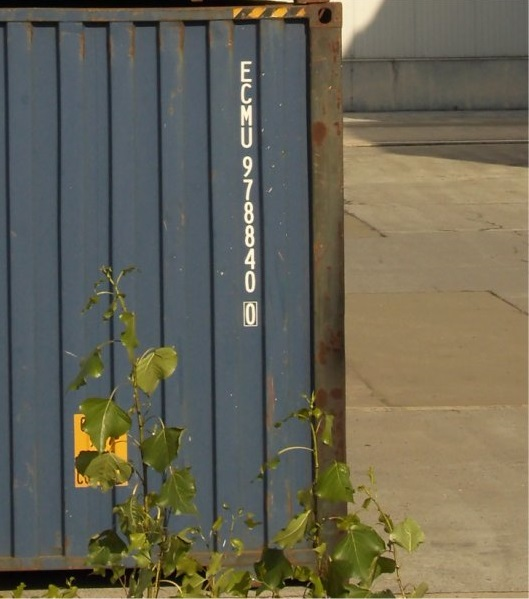container_no_door: (2, 2, 344, 584)
